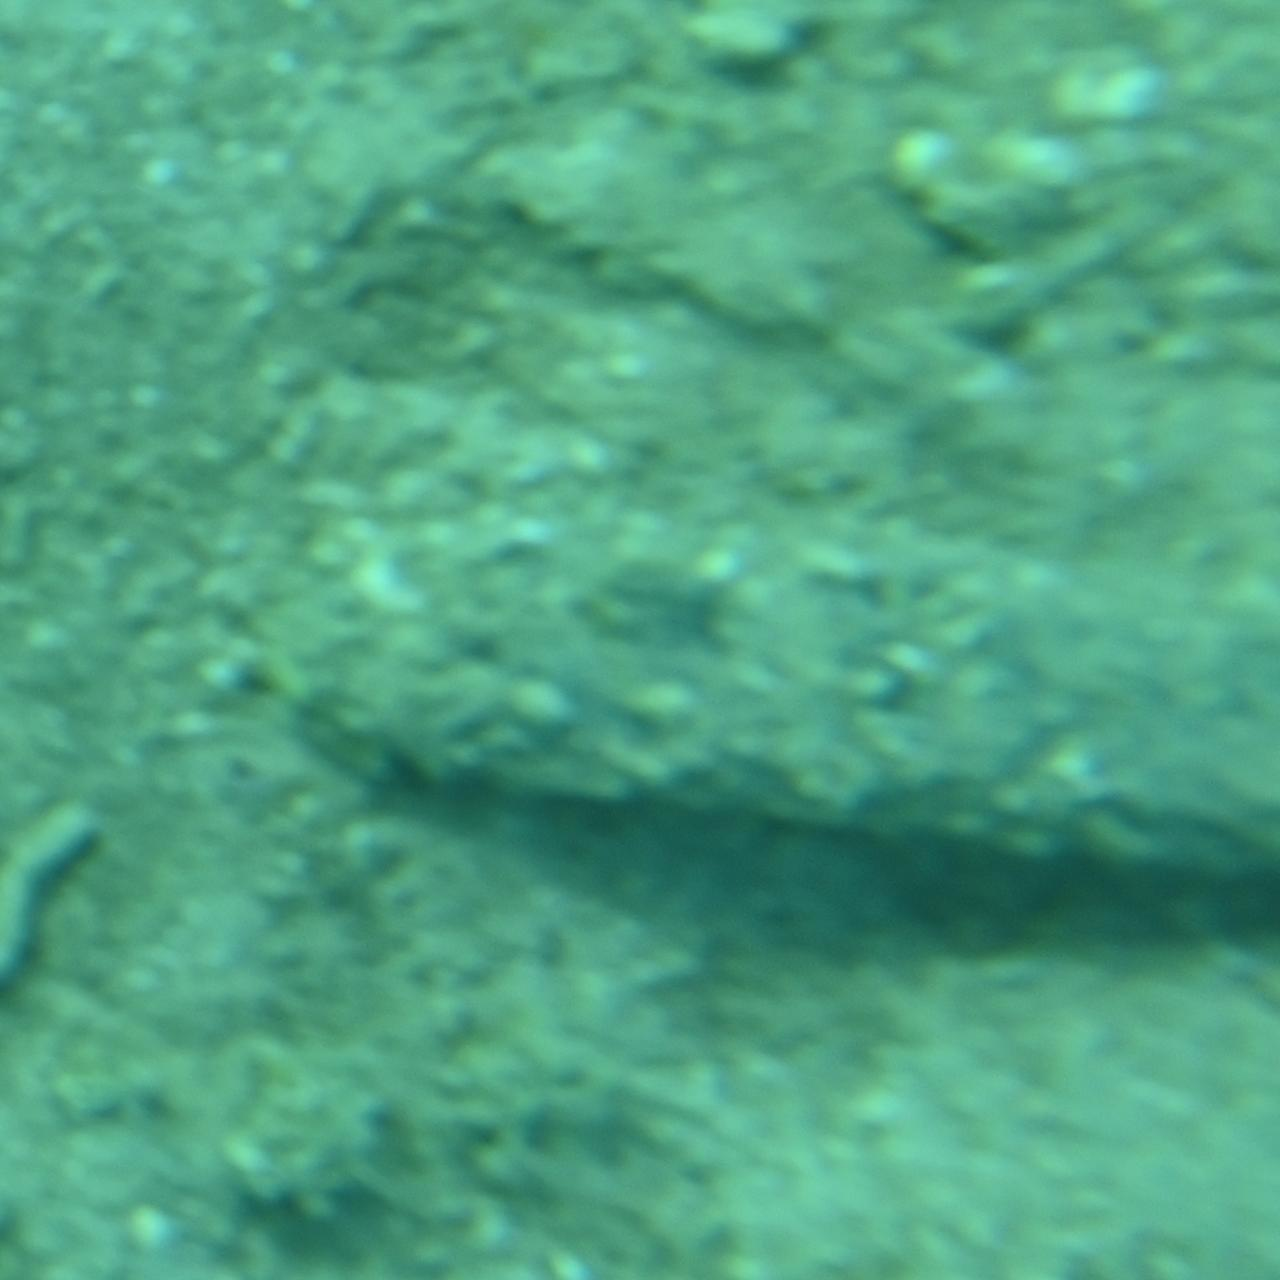Holothuria tubulosa: (231, 388, 1279, 892)
